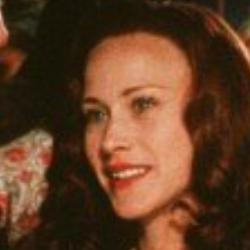face: (37, 4, 247, 225)
